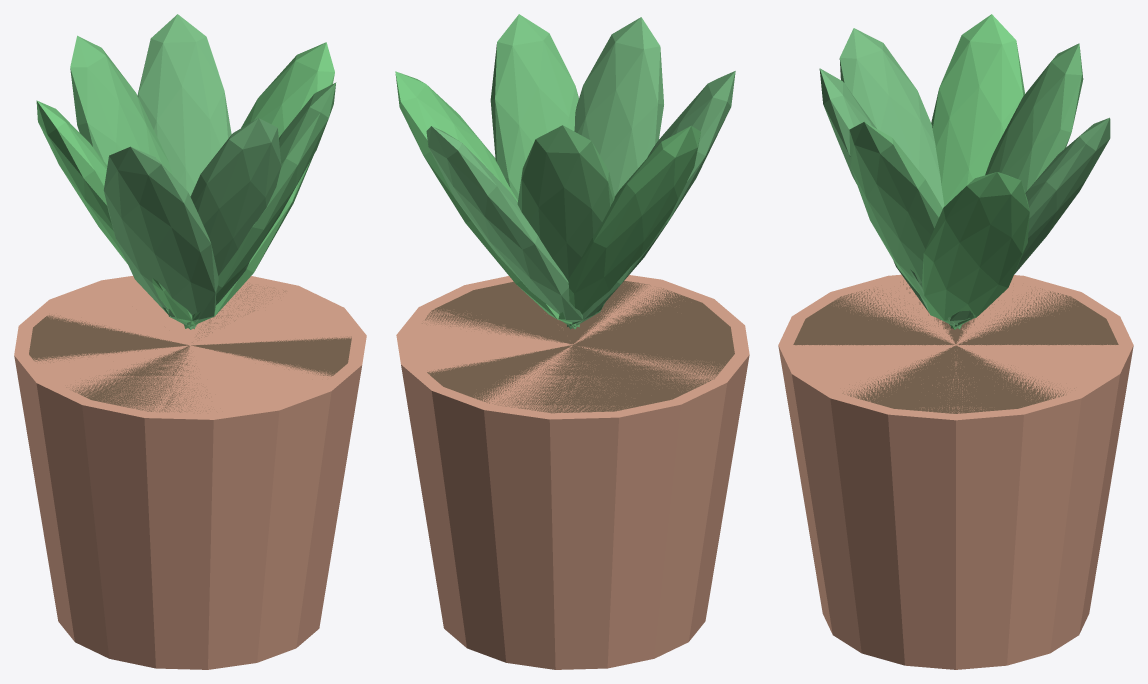
File: plant.glb
3 views of the same model, side by side, from view 1: azimuth 30°, elevation 25°; view 2: azimuth 150°, elevation 25°; view 3: azimuth 270°, elevation 25° (orthographic).
Parts seen in each view (by area): view 1: pot, leaf6, soil, leaf3, leaf0, leaf4, leaf1, leaf2, leaf5; view 2: pot, soil, leaf0, leaf1, leaf5, leaf4, leaf3, leaf2, leaf6; view 3: pot, soil, leaf2, leaf5, leaf1, leaf6, leaf4, leaf3, leaf0.
Boxes of the visible parts, left/top/right/bottom form: pot: left=14, top=276, right=366, bottom=669; leaf6: left=103, top=146, right=218, bottom=322; soil: left=29, top=283, right=351, bottom=412; leaf3: left=137, top=14, right=231, bottom=329; leaf0: left=168, top=118, right=281, bottom=322; leaf4: left=70, top=35, right=195, bottom=329; leaf1: left=186, top=82, right=336, bottom=325; leaf2: left=184, top=42, right=334, bottom=328; leaf5: left=36, top=100, right=196, bottom=326; pot: left=396, top=275, right=749, bottom=669; soil: left=422, top=281, right=734, bottom=413; leaf0: left=569, top=17, right=663, bottom=329; leaf1: left=490, top=14, right=578, bottom=329; leaf5: left=558, top=125, right=700, bottom=323; leaf4: left=517, top=125, right=614, bottom=312; leaf3: left=426, top=126, right=583, bottom=323; leaf2: left=395, top=71, right=579, bottom=327; leaf6: left=567, top=71, right=735, bottom=326; pot: left=778, top=274, right=1133, bottom=669; soil: left=793, top=280, right=1118, bottom=413; leaf2: left=922, top=172, right=1029, bottom=322; leaf5: left=931, top=14, right=1024, bottom=329; leaf1: left=849, top=122, right=974, bottom=323; leaf6: left=839, top=28, right=961, bottom=329; leaf4: left=951, top=43, right=1083, bottom=328; leaf3: left=950, top=117, right=1110, bottom=325; leaf0: left=819, top=68, right=961, bottom=327.
Size of the model in its own units: 0.2421 by 0.4065 by 0.24.
